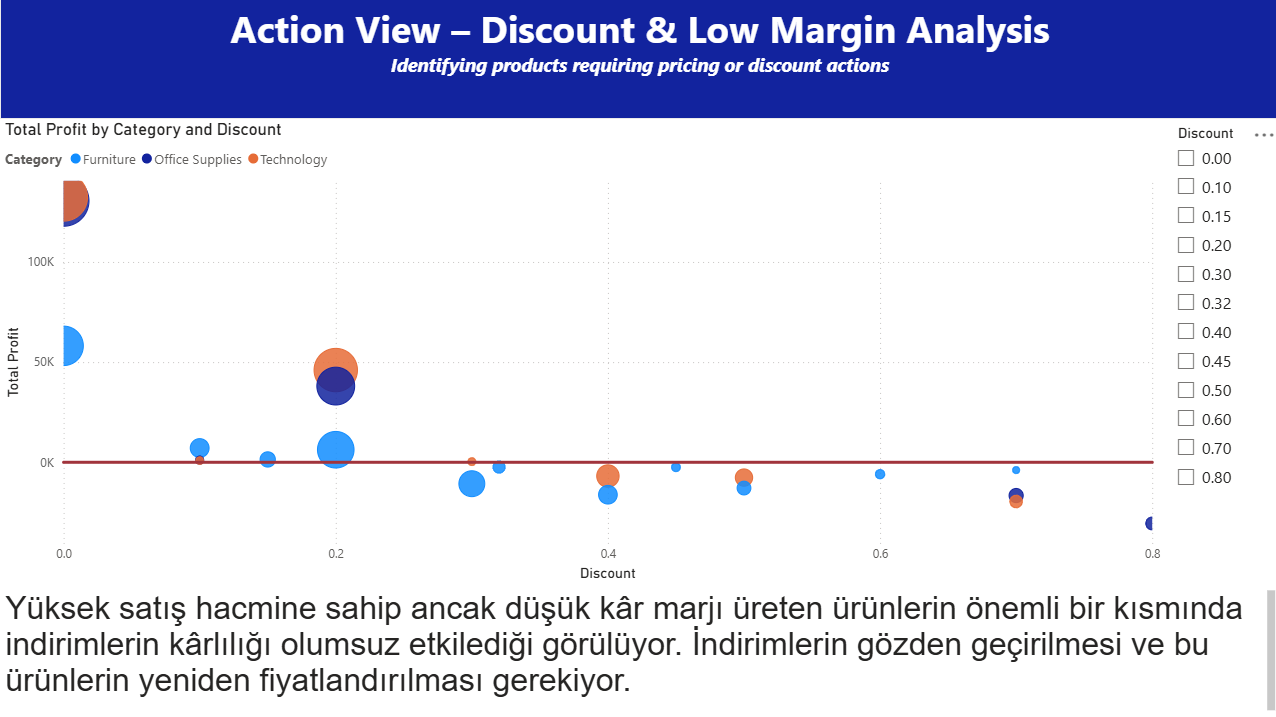

This screenshot's page, from the dashboard's own definition file:
{"tool":"powerbi","page":{"name":"Action View","canvas":[1280,720],"ordinal":2},"visuals":[{"type":"scatterChart","title":"Total Profit by Category and Discount","fields":{"X":["Sample - Superstore.Discount"],"Y":["Sample - Superstore.Total Profit"],"Size":["Sample - Superstore.Total Sales"],"Series":["Sample - Superstore.Category"]},"box":[0,120.6,1165.4,466.9],"z":0},{"type":"slicer","fields":{"Values":["Sample - Superstore.Discount"]},"box":[1165.4,120.6,114.6,466.9],"z":1000},{"type":"textbox","box":[0,587.5,1280,132.7],"z":1001},{"type":"textbox","box":[0,0,1280,120.6],"z":1002}]}

Visuals, with their boxes in screenshot pixels (x1, y1, x2, y2), scaled from the page's 1280x720 canvas onto the 1276x717 screenshot:
"Total Profit by Category and Discount" scatterChart: [0, 120, 1162, 585]
slicer - Sample - Superstore.Discount: [1162, 120, 1275, 585]
textbox: [0, 585, 1275, 716]
textbox: [0, 0, 1275, 120]
